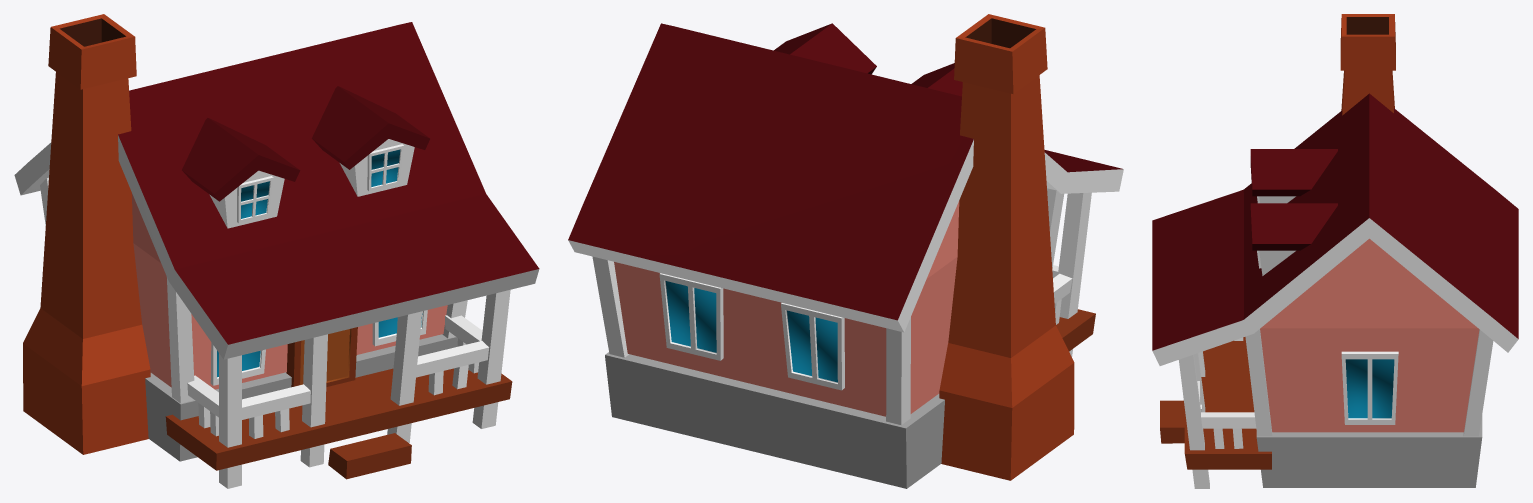
Rendered from Small_House_3.fbx.
The picture shows the model from 3 angles, left to right: view 1: azimuth 30°, elevation 25°; view 2: azimuth 150°, elevation 25°; view 3: azimuth 270°, elevation 25°; orthographic projection. The views are drawn at different scales.
Visible parts, largest first — view 1: Small_House_Roof, Small_House_Chimney, Small_House_Columns, Small_House_Poarch, Small_House_High_Windows, Small House_Walls, Small_House_Base, Small_House_Windows; view 2: Small_House_Roof, Small_House_Chimney, Small_House_Base, Small House_Walls, Small_House_Windows, Small_House_Columns, Small_House_High_Windows, Small_House_Poarch; view 3: Small_House_Roof, Small House_Walls, Small_House_Base, Small_House_High_Windows, Small_House_Poarch, Small_House_Columns, Small_House_Chimney, Small_House_Windows.
Part boxes in pixels (x1=…): Small_House_Roof: x1=14, y1=22, x2=539, y2=359; Small_House_Chimney: x1=23, y1=14, x2=150, y2=454; Small_House_Columns: x1=40, y1=177, x2=510, y2=488; Small_House_Poarch: x1=165, y1=327, x2=512, y2=479; Small_House_High_Windows: x1=182, y1=86, x2=429, y2=228; Small House_Walls: x1=131, y1=192, x2=447, y2=389; Small_House_Base: x1=145, y1=334, x2=457, y2=461; Small_House_Windows: x1=210, y1=310, x2=427, y2=385; Small_House_Roof: x1=568, y1=23, x2=1123, y2=332; Small_House_Chimney: x1=939, y1=14, x2=1074, y2=480; Small_House_Base: x1=605, y1=352, x2=944, y2=488; Small House_Walls: x1=614, y1=201, x2=959, y2=416; Small_House_Windows: x1=659, y1=273, x2=844, y2=390; Small_House_Columns: x1=592, y1=188, x2=1091, y2=424; Small_House_High_Windows: x1=774, y1=23, x2=962, y2=96; Small_House_Poarch: x1=1056, y1=309, x2=1095, y2=351; Small_House_Roof: x1=1152, y1=93, x2=1518, y2=365; Small House_Walls: x1=1260, y1=238, x2=1479, y2=432; Small_House_Base: x1=1256, y1=415, x2=1482, y2=487; Small_House_High_Windows: x1=1250, y1=149, x2=1337, y2=275; Small_House_Poarch: x1=1160, y1=337, x2=1271, y2=469; Small_House_Columns: x1=1179, y1=329, x2=1493, y2=488; Small_House_Chimney: x1=1340, y1=14, x2=1395, y2=115; Small_House_Windows: x1=1341, y1=351, x2=1398, y2=424.
Size of the model in its own units: 287 by 299 by 294.
